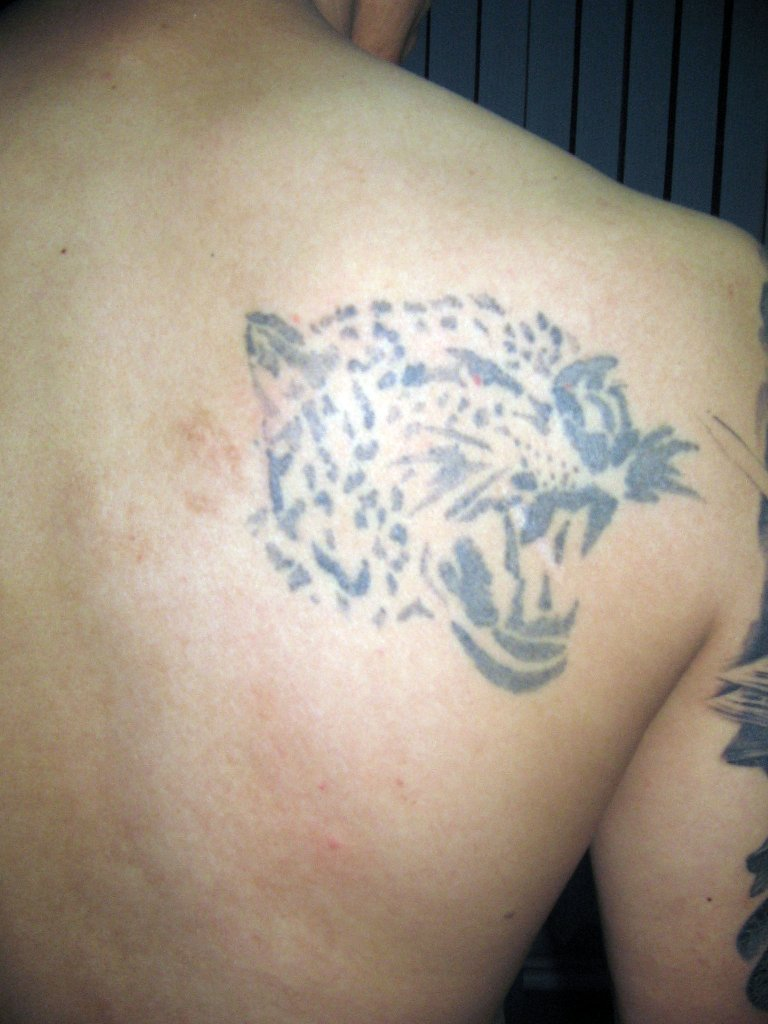tatu8_kot: (195, 209, 680, 756)
